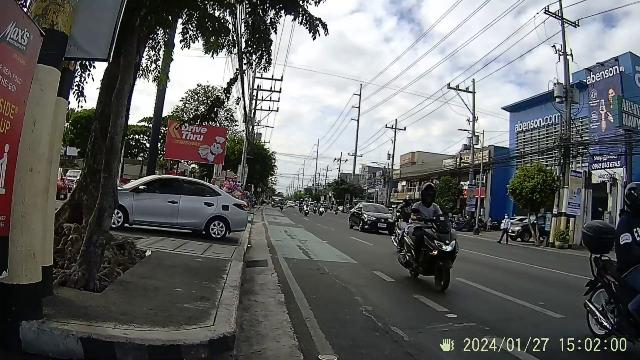tree: (74, 62, 130, 274)
utility_post: (540, 0, 580, 214), (27, 67, 61, 305), (348, 81, 368, 177), (384, 116, 408, 176)
